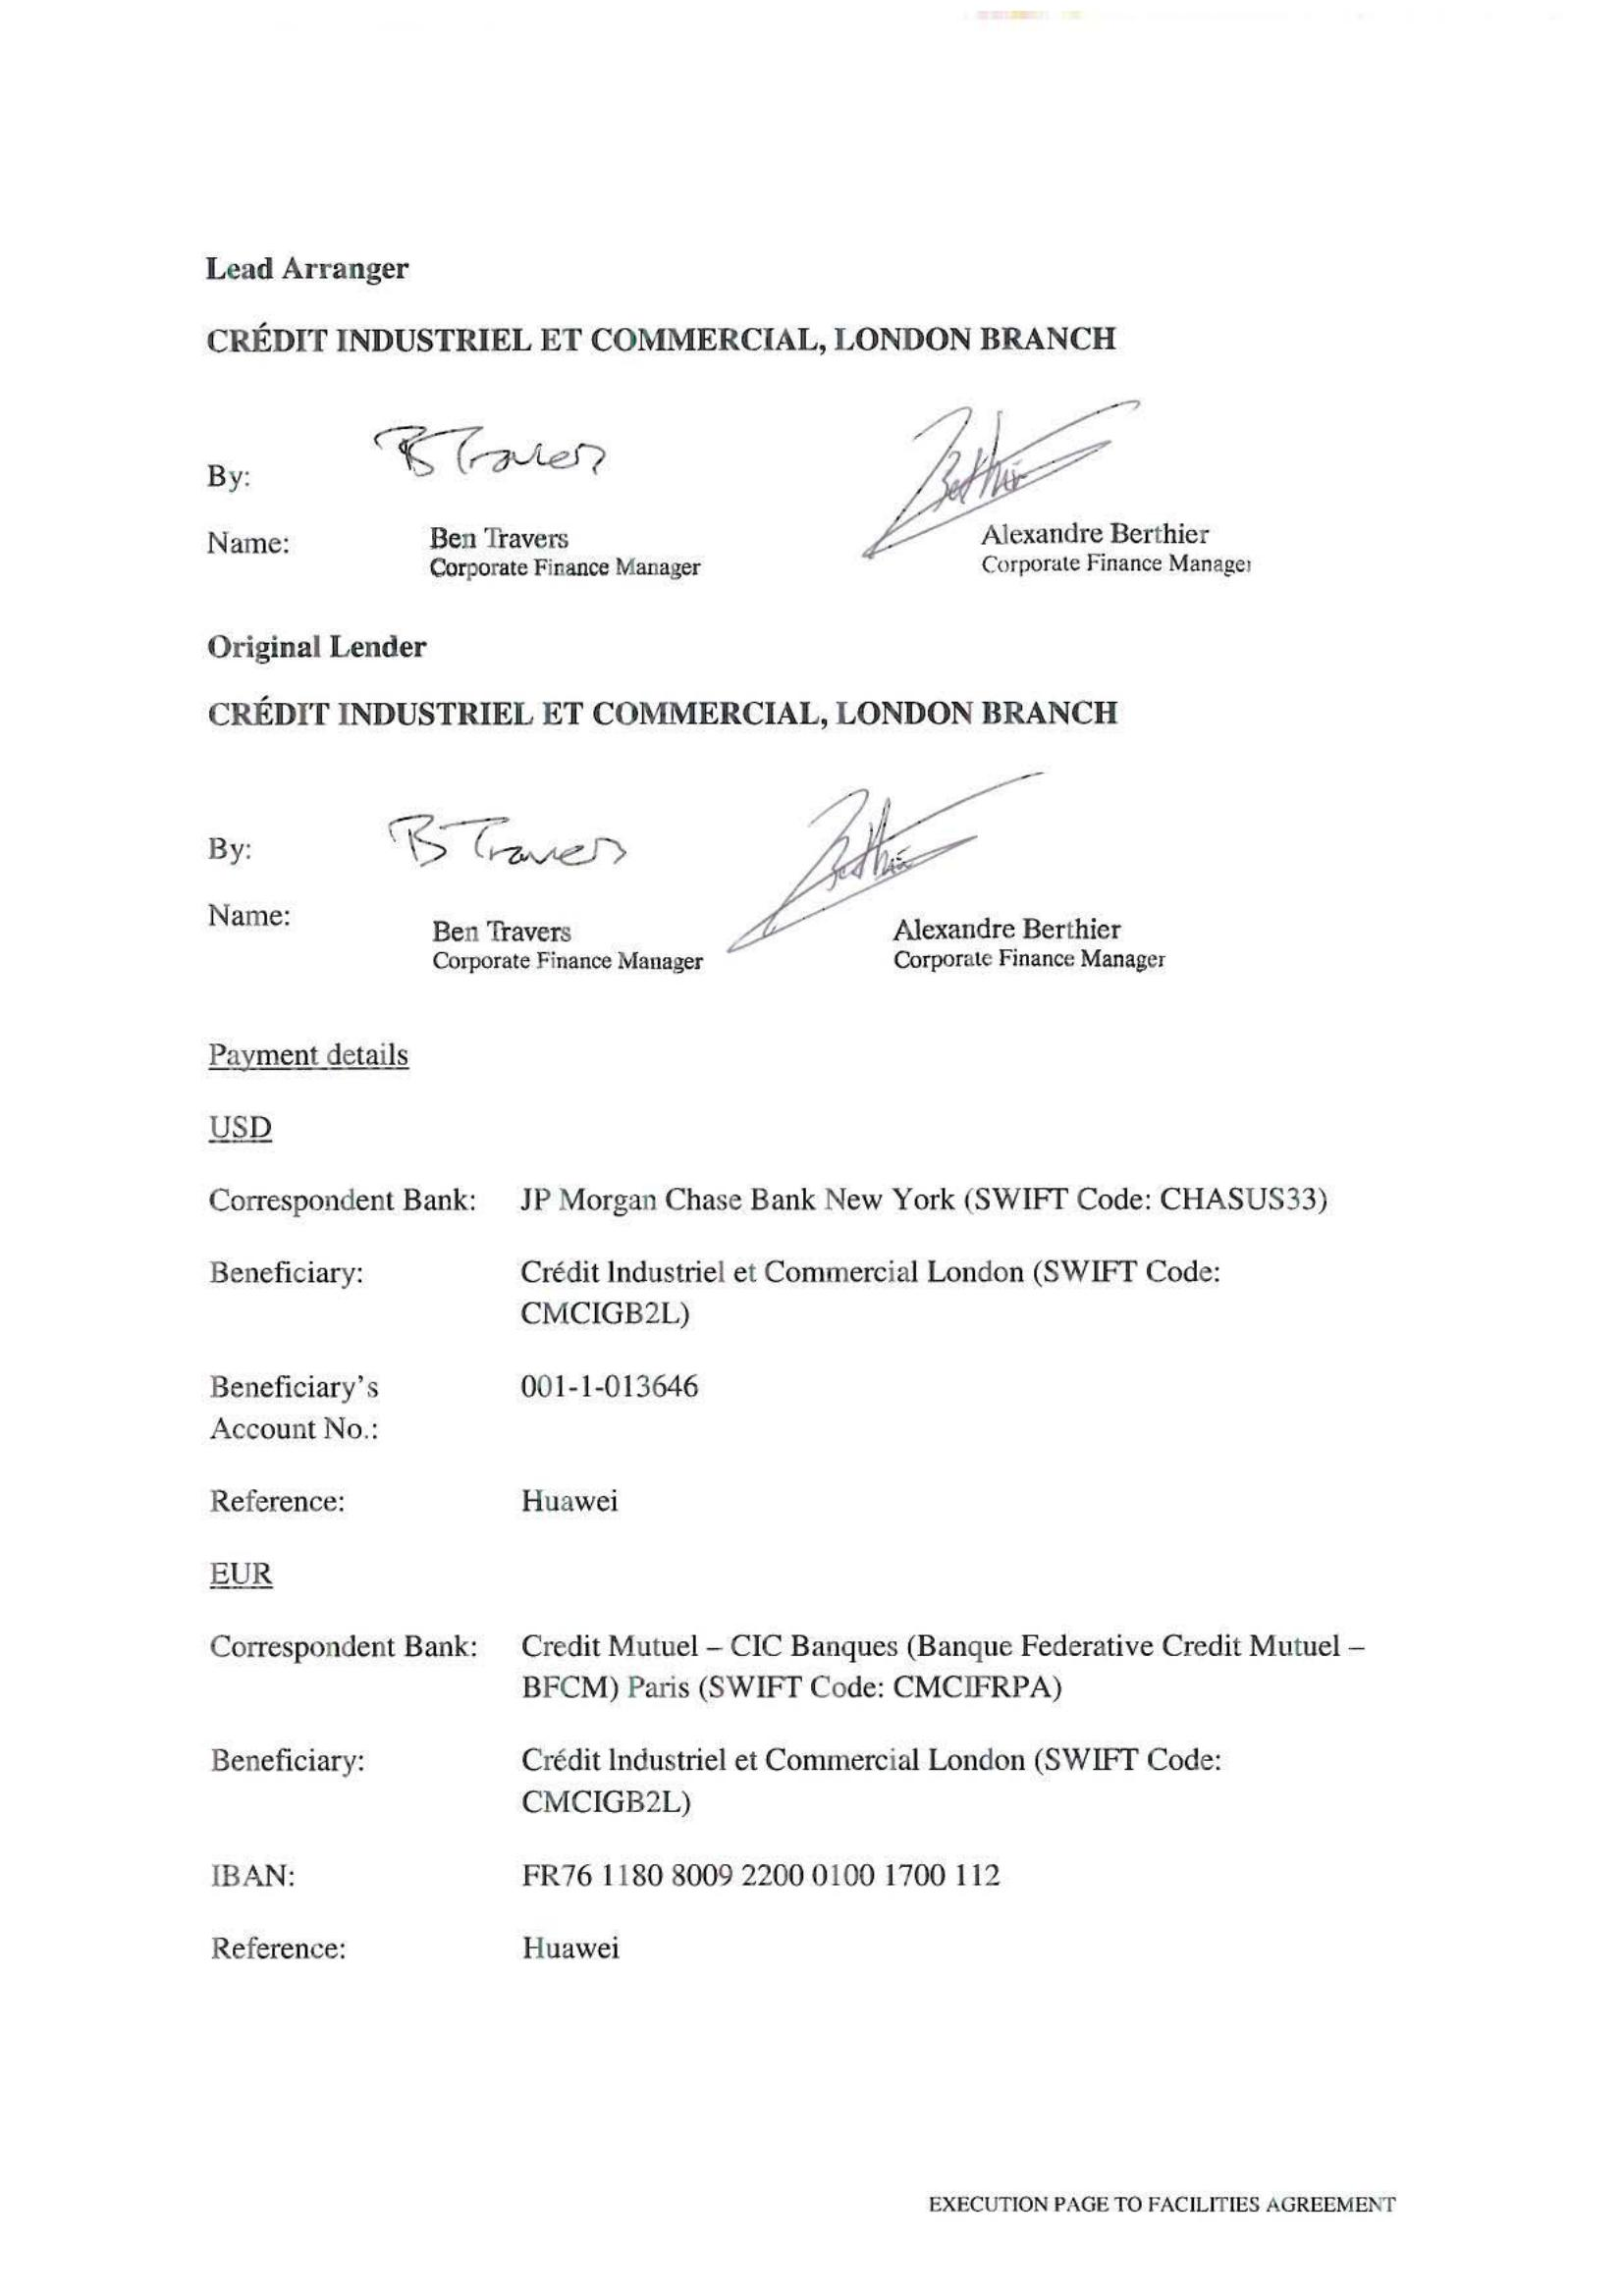typetag: (850, 2157, 1461, 2266)
